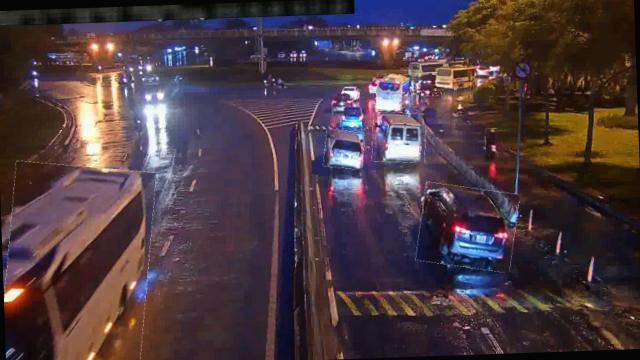Bike: (486, 129, 498, 157)
Bus: (0, 160, 156, 360), (371, 110, 426, 164), (376, 73, 410, 111)
Car: (416, 182, 519, 272), (324, 129, 364, 169)
